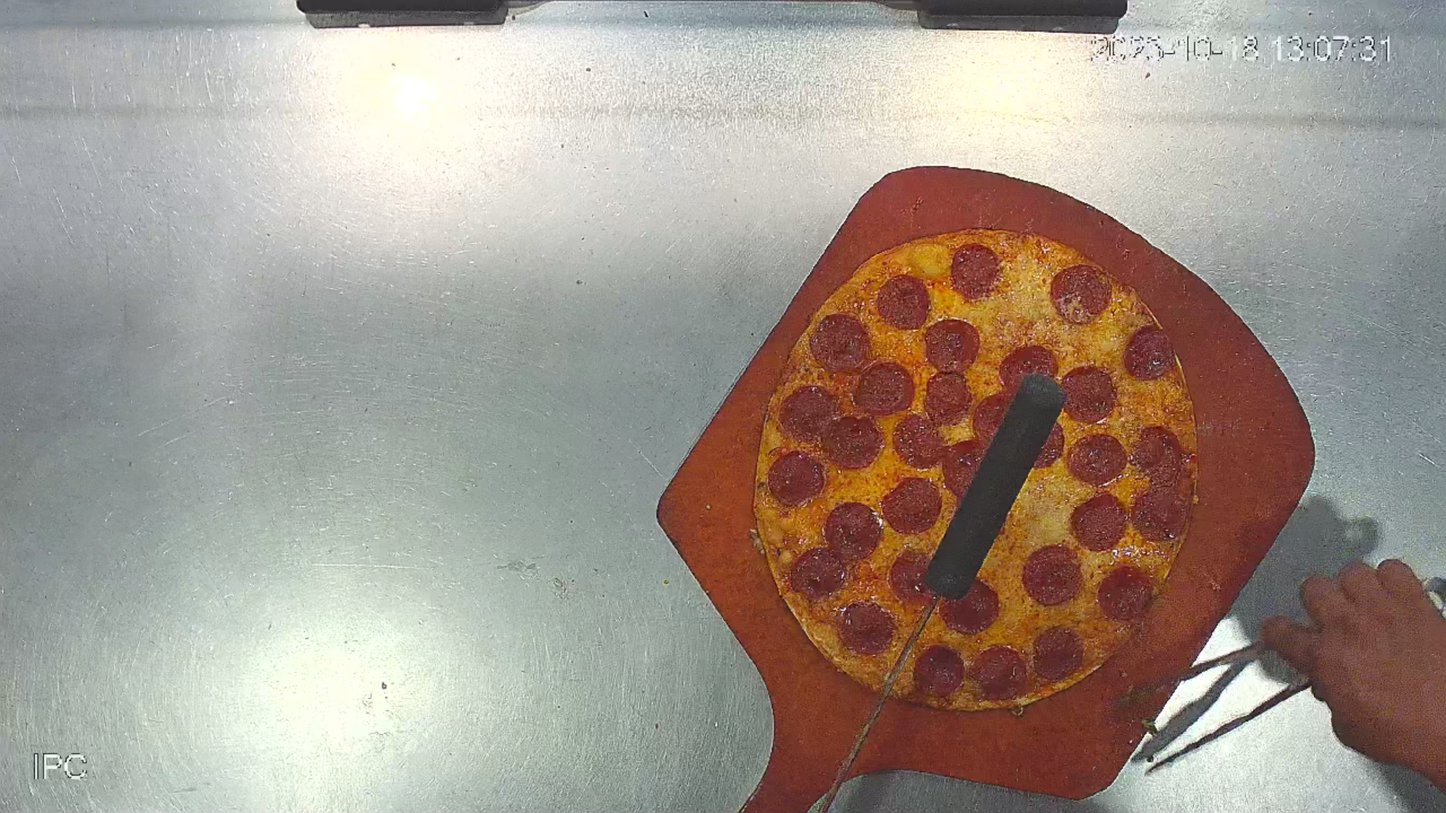pepperoni: (752, 223, 1203, 719)
